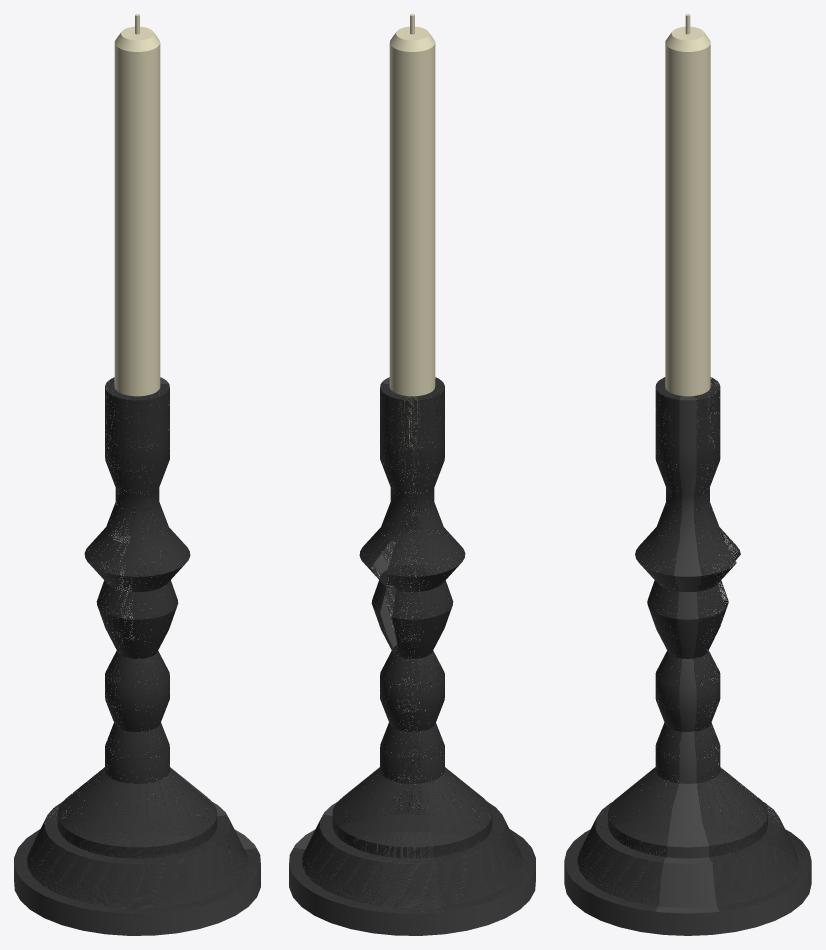
File: candle.fbx
3 views of the same model, side by side, from view 1: azimuth 30°, elevation 25°; view 2: azimuth 150°, elevation 25°; view 3: azimuth 270°, elevation 25° (orthographic).
Visible parts, largest first — view 1: Cylinder, Cylinder.001; view 2: Cylinder, Cylinder.001; view 3: Cylinder, Cylinder.001.
Boxes of the visible parts, x1=… form: Cylinder: x1=14, y1=377, x2=260, y2=935; Cylinder.001: x1=114, y1=14, x2=160, y2=447; Cylinder: x1=289, y1=377, x2=535, y2=935; Cylinder.001: x1=389, y1=14, x2=435, y2=449; Cylinder: x1=564, y1=377, x2=811, y2=935; Cylinder.001: x1=665, y1=14, x2=710, y2=446.
Bounding box in the file's own units: 20 × 77.46 × 20.
2 materials, 1 textured.
